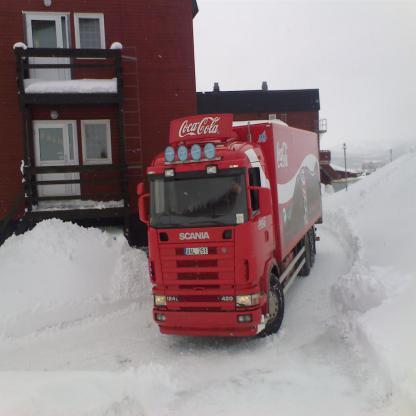Truck: (137, 113, 323, 336)
